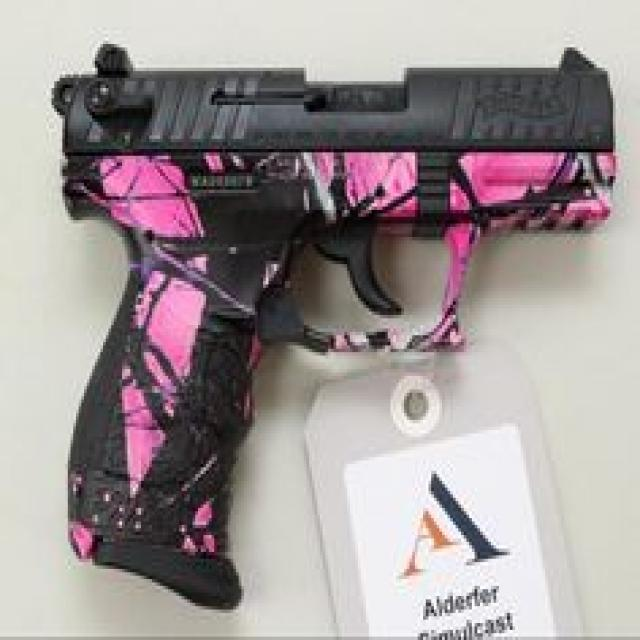semi automatic: (40, 32, 620, 611)
